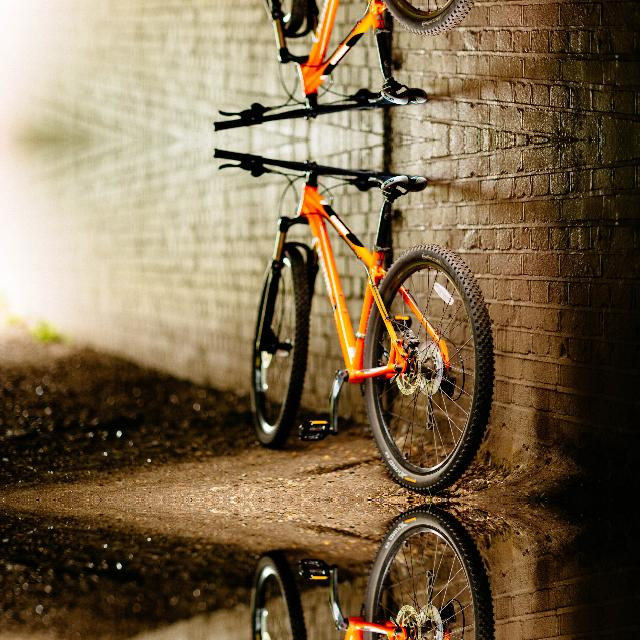obstacle: (182, 145, 524, 497), (182, 503, 524, 640), (182, 0, 524, 135)
